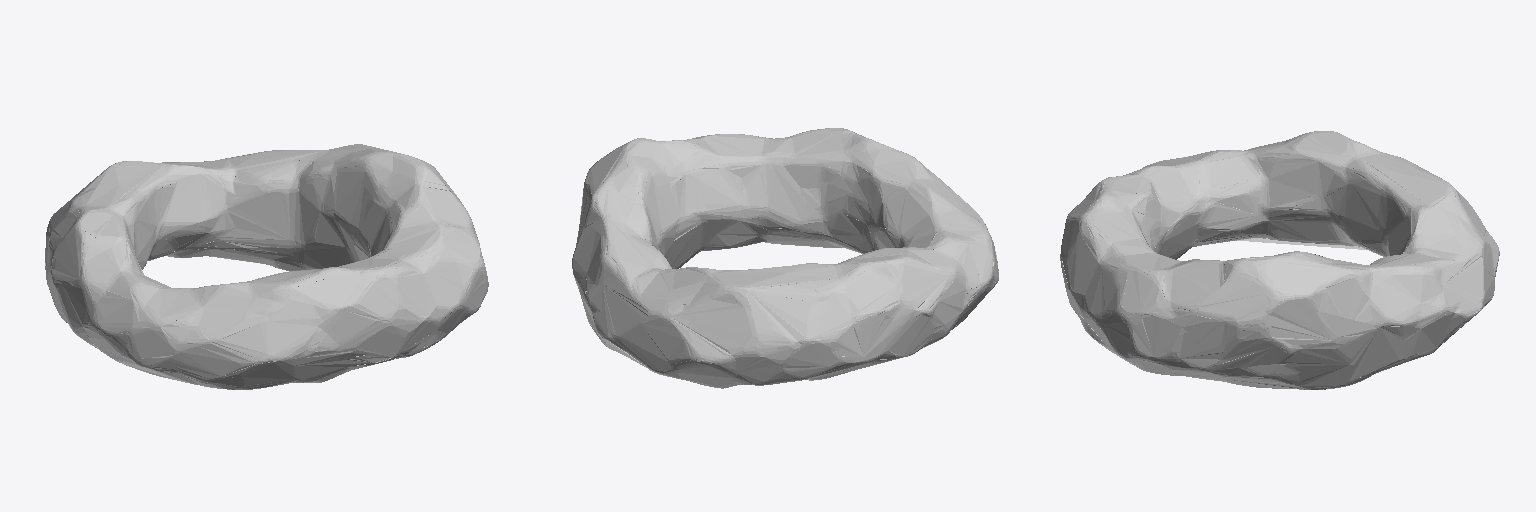
File: gold_test_object.obj
The picture shows the model from 3 angles: view 1: azimuth 30°, elevation 25°; view 2: azimuth 150°, elevation 25°; view 3: azimuth 270°, elevation 25°; orthographic projection.
Parts seen in each view (by area): view 1: Torus; view 2: Torus; view 3: Torus.
Part boxes in pixels (x1,y1,x2,y2): Torus: (45, 144, 488, 389); Torus: (572, 128, 998, 388); Torus: (1060, 131, 1499, 389).
Bounding box in the file's own units: 2.68 × 0.9394 × 2.73.